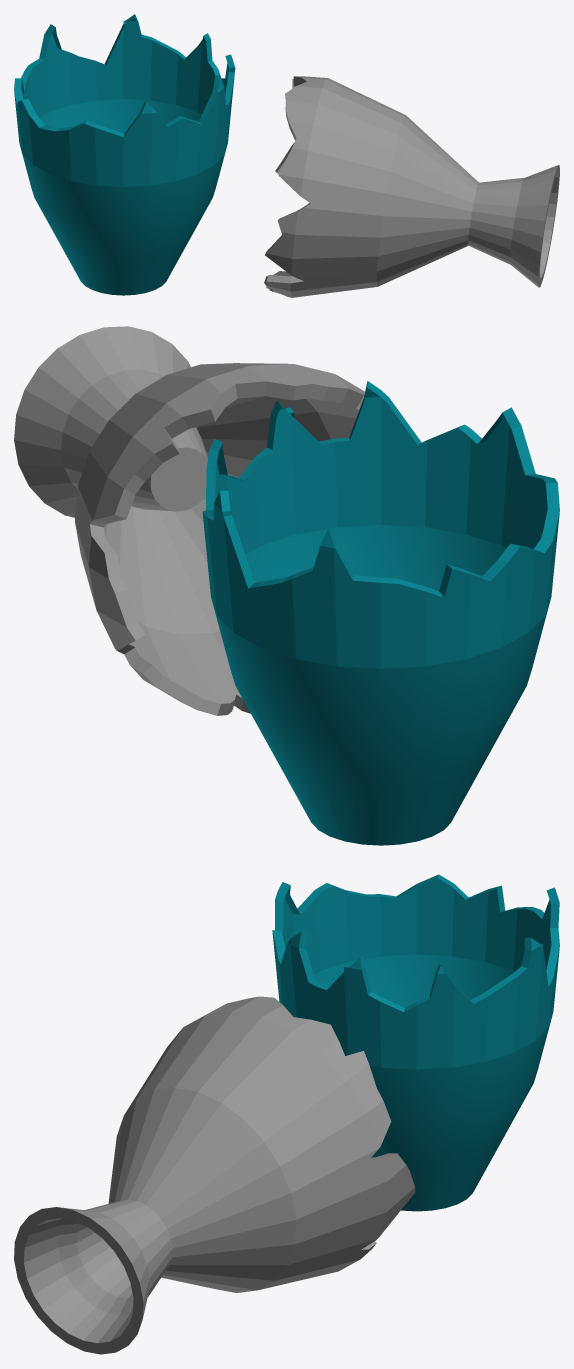
The model's file is Vase_1.FBX.
3 views of the same model, one above another, from view 1: azimuth 30°, elevation 25°; view 2: azimuth 150°, elevation 25°; view 3: azimuth 270°, elevation 25° (orthographic). The views are drawn at different scales.
Visible parts, largest first — view 1: Cone012; view 2: Cone012; view 3: Cone012.
Part boxes in pixels (<box>): Cone012: <box>14,14,559,297</box>; Cone012: <box>14,326,559,845</box>; Cone012: <box>14,874,559,1354</box>.
Bounding box in the file's own units: 37.31 × 18.84 × 31.77.
